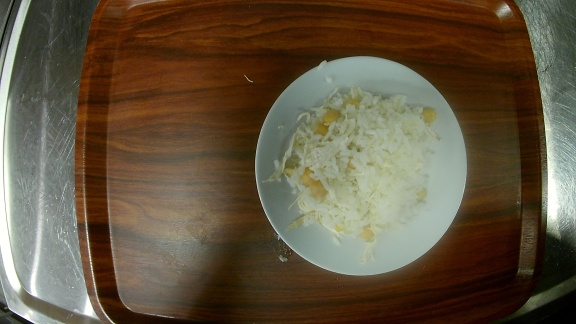nohutlupilav: (256, 55, 467, 275)
